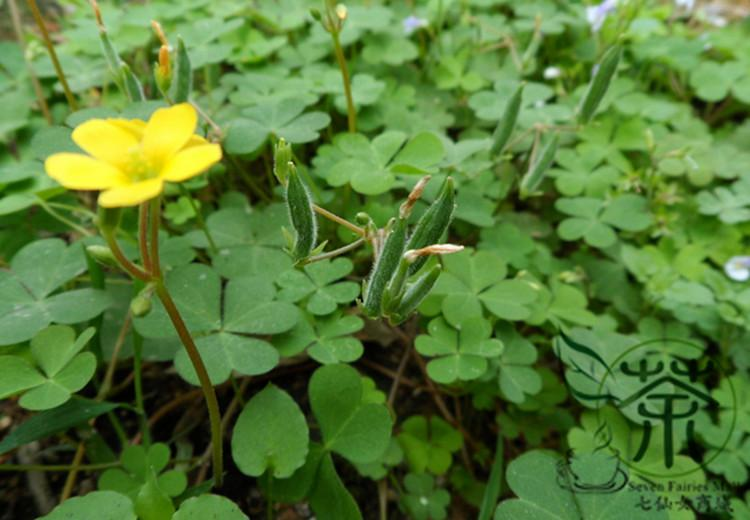oxalis: (479, 72, 750, 243), (131, 224, 320, 380), (432, 251, 551, 396), (12, 237, 105, 408), (494, 449, 677, 520), (205, 80, 328, 158)
